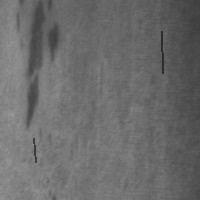inclusion: (15, 1, 52, 97), (20, 70, 43, 133), (45, 23, 62, 66), (159, 29, 164, 75), (31, 136, 37, 164)
